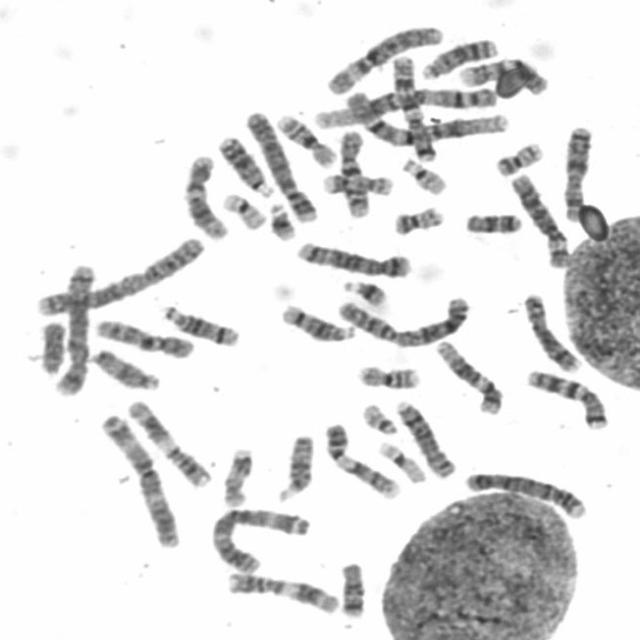A1: (338, 83, 508, 145), (308, 80, 508, 130)
A2: (30, 230, 209, 316), (328, 286, 475, 349)
A3: (94, 407, 184, 550), (204, 499, 314, 574)
B4: (239, 103, 321, 224), (458, 464, 590, 521)
B5: (48, 256, 98, 397), (290, 234, 414, 279)
C10: (90, 311, 198, 360), (333, 123, 374, 219)
C11: (122, 393, 215, 490), (220, 565, 342, 616)
C12: (430, 333, 505, 416), (178, 148, 232, 241)
C6: (320, 18, 446, 96), (505, 167, 573, 269)
C7: (385, 48, 440, 164), (520, 363, 612, 431)
C8: (388, 393, 459, 480), (517, 287, 584, 375)
C9: (318, 417, 404, 500), (452, 52, 552, 96)
D13: (212, 128, 277, 198), (415, 31, 501, 80)
D14: (156, 299, 243, 348), (275, 297, 357, 343)
D15: (85, 342, 163, 391), (271, 428, 317, 503)
E16: (270, 107, 340, 168), (351, 358, 424, 391)
E17: (216, 441, 255, 509), (316, 167, 396, 197)
E18: (334, 556, 369, 619), (460, 206, 526, 236)
F19: (371, 434, 429, 484), (216, 186, 269, 231)
F20: (490, 136, 547, 177), (388, 199, 448, 237)
G21: (336, 273, 392, 309), (263, 197, 298, 242)
G22: (396, 151, 450, 196), (356, 396, 400, 436)
X: (557, 119, 596, 223)
Y: (33, 314, 69, 376)
